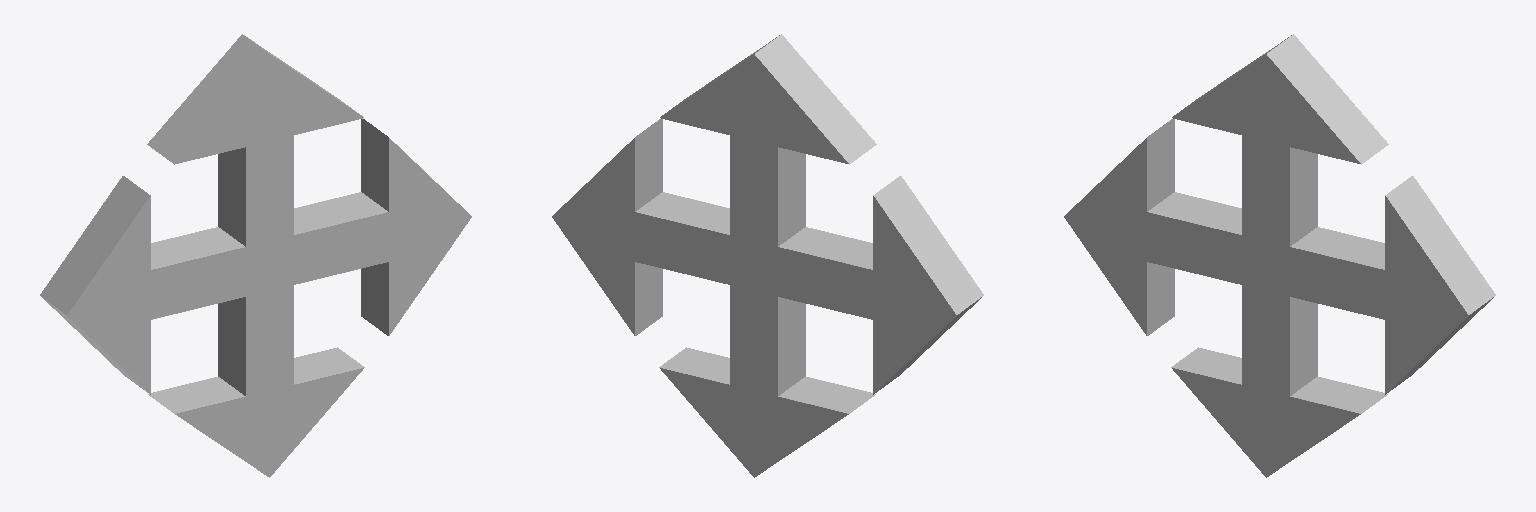
File: tinker(5).obj
3 views of the same model, side by side, from view 1: azimuth 30°, elevation 25°; view 2: azimuth 150°, elevation 25°; view 3: azimuth 330°, elevation 25° (orthographic).
Parts seen in each view (by area): view 1: obj_0; view 2: obj_0; view 3: obj_0.
Part boxes in pixels (left/top/right/bottom): obj_0: left=40, top=34, right=471, bottom=477; obj_0: left=552, top=34, right=983, bottom=477; obj_0: left=1064, top=34, right=1495, bottom=477.
Size of the model in its own units: 34 by 34 by 4.